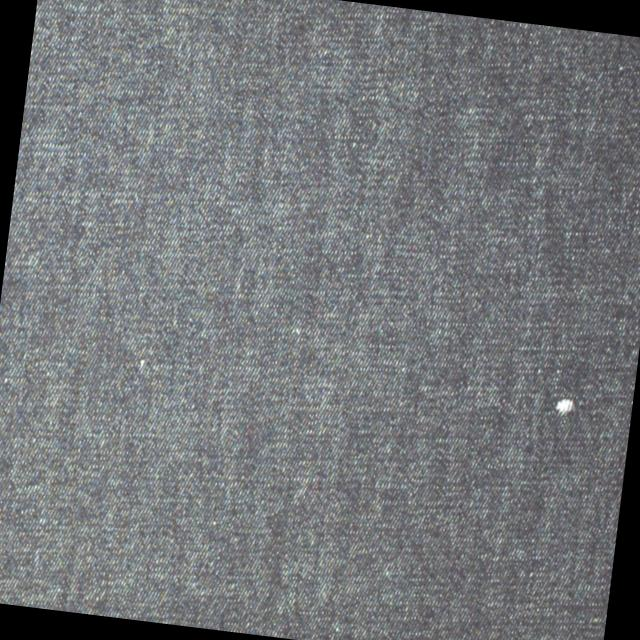hole: (550, 395, 576, 419)
